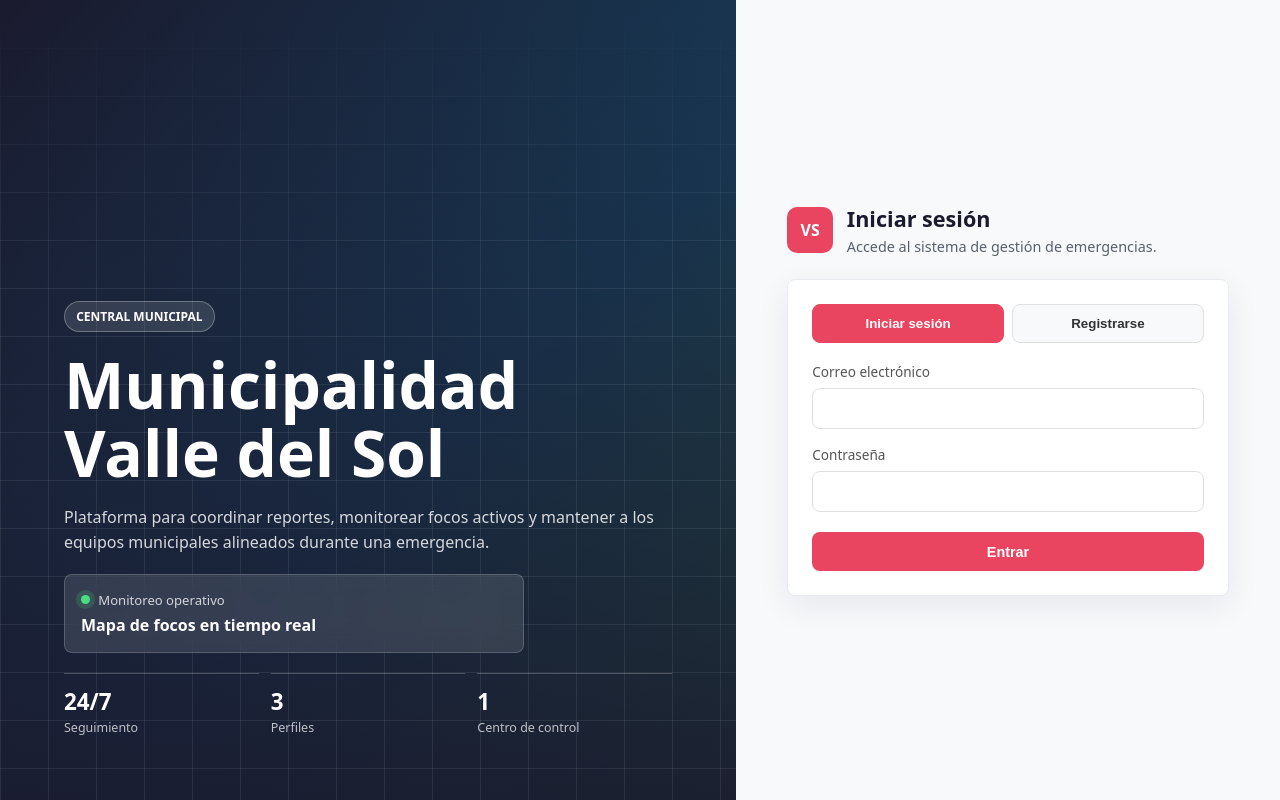
Test: AuthForm › muestra mensaje de error cuando falla la autenticacion
The width and height of the screenshot is (1280, 800).
In the field labelled "Correo electrónico": [1008, 408] box [812,388,1204,429], type "ana@test.cl"
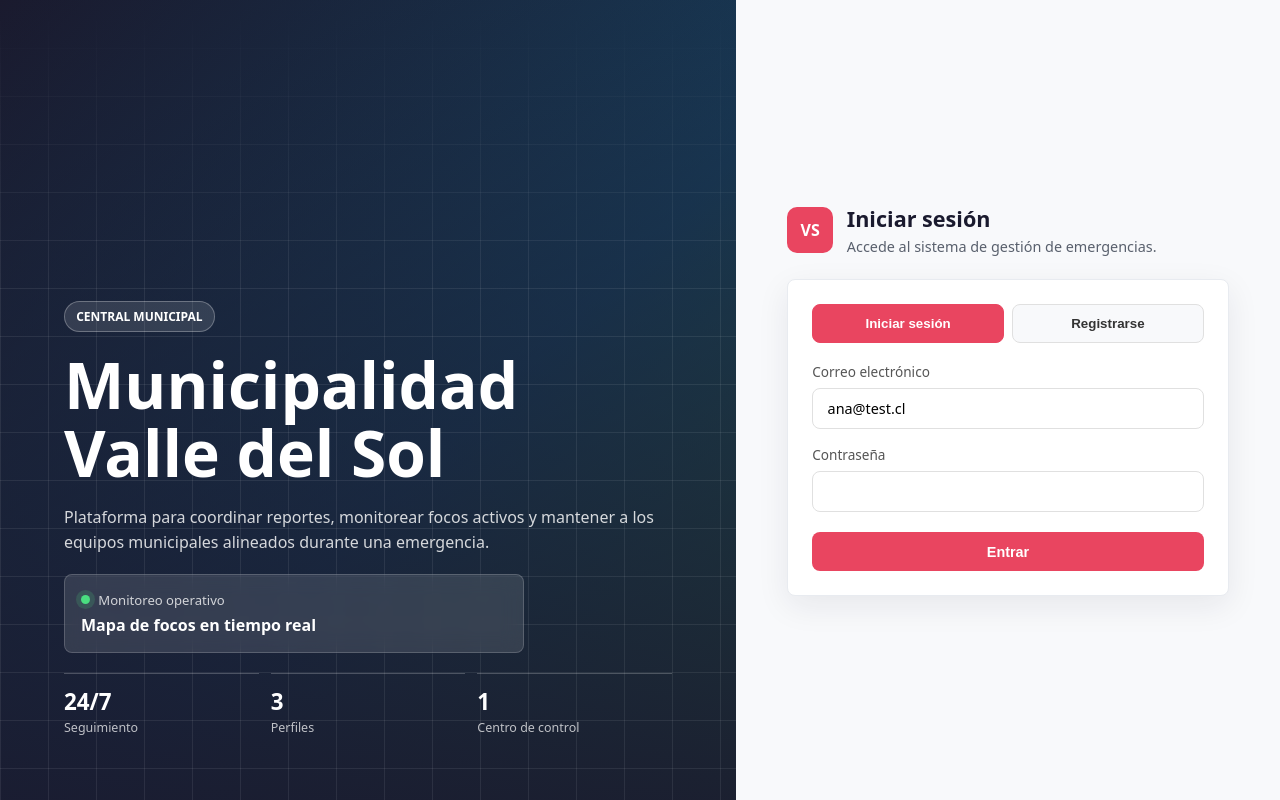
In the password field labelled "Contraseña": [1008, 492] box [812,471,1204,512], type "mala"
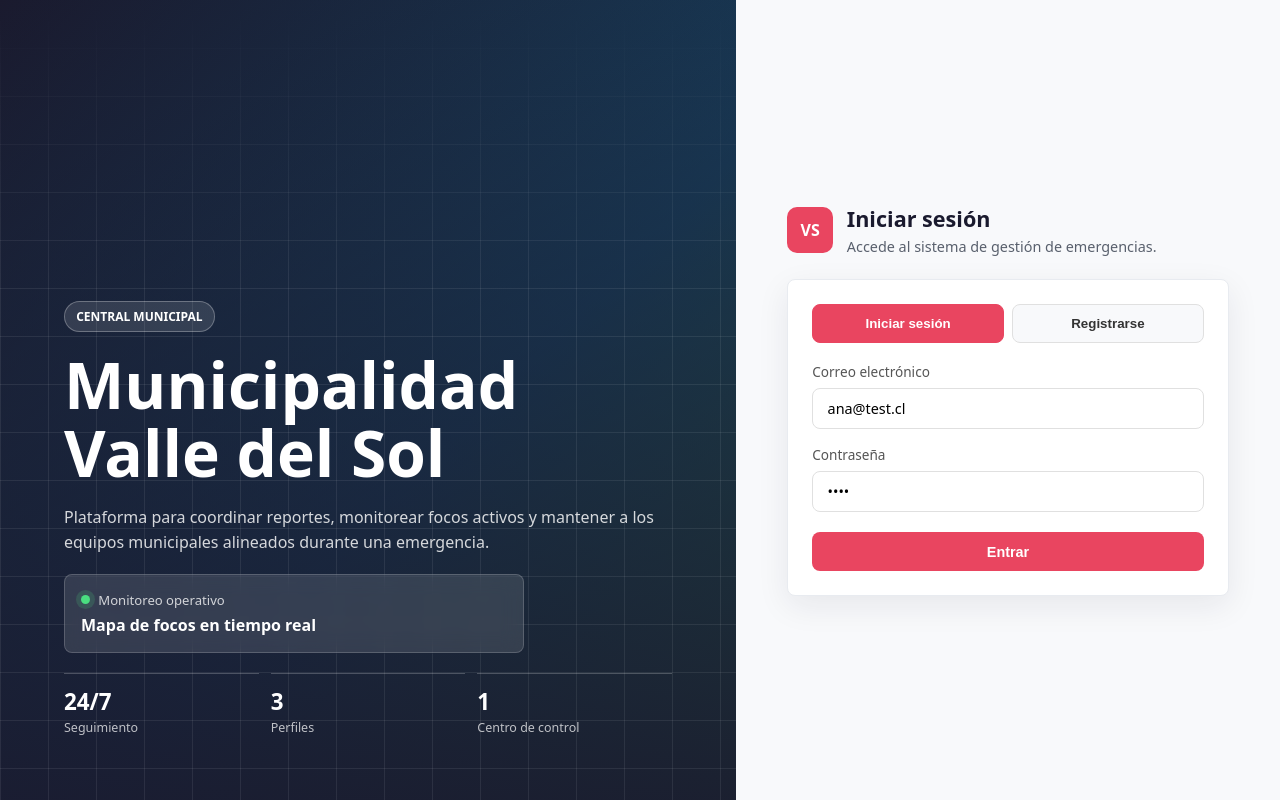
Click the button "Entrar": [1008, 552] box [812,532,1204,571]
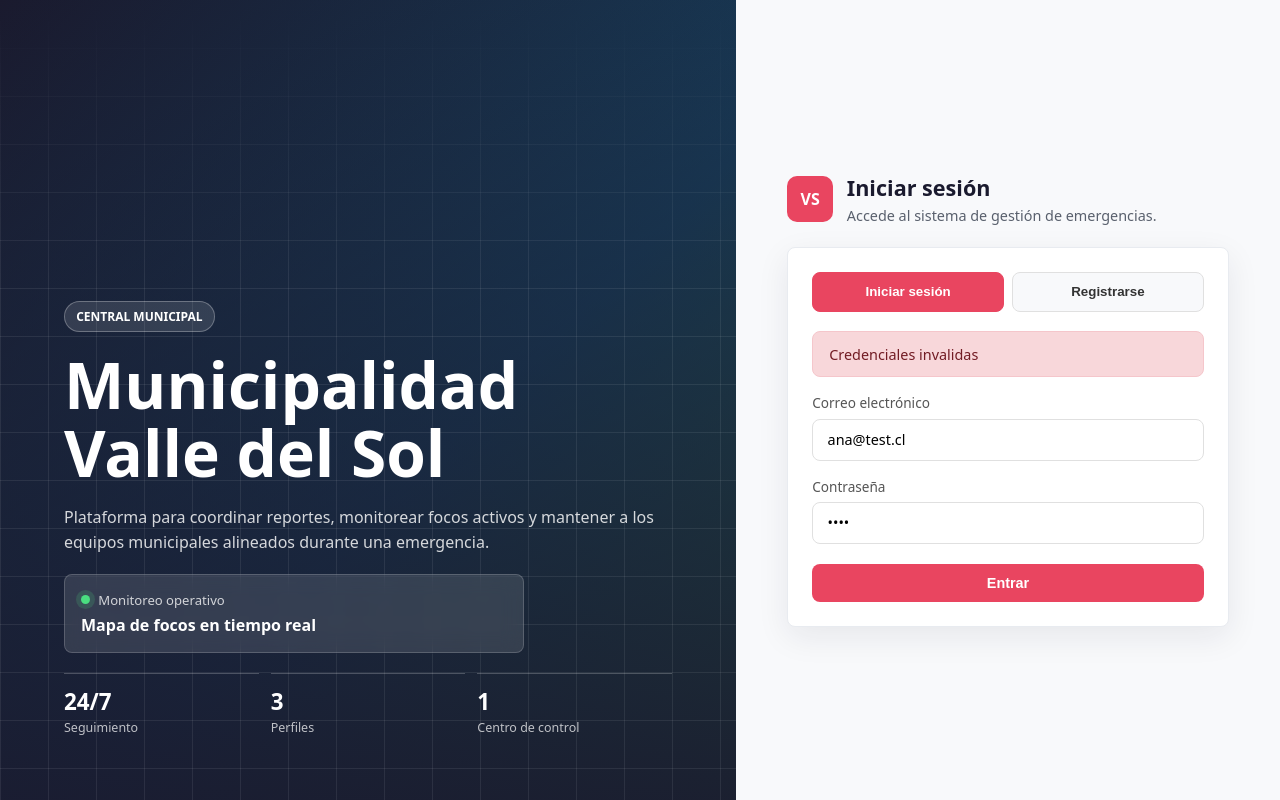
Check: the text "Credenciales invalidas" is shown, box [812,331,1204,377]
